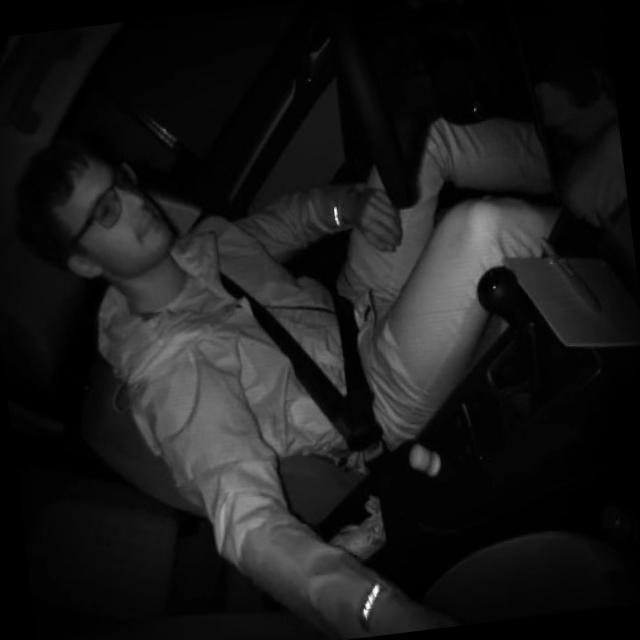pen: (537, 228, 604, 324)
